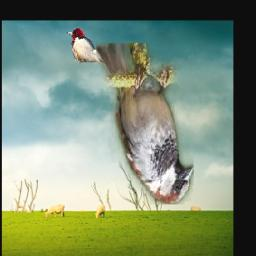Sparrow: (96, 43, 194, 204)
Woodpecker: (66, 27, 110, 64)
